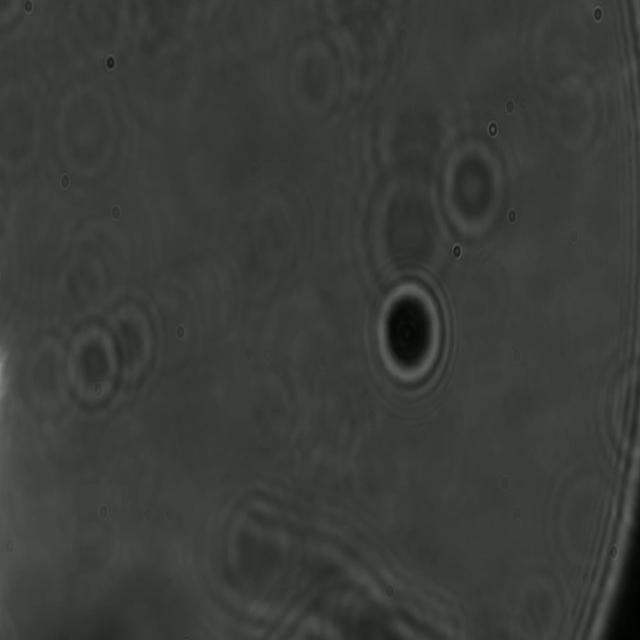DCELL: (370, 271, 454, 400)
